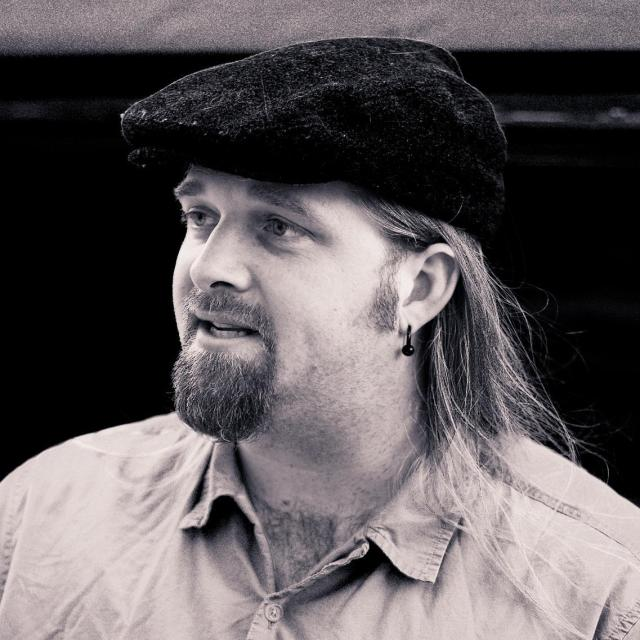no-glass: (179, 208, 317, 252)
